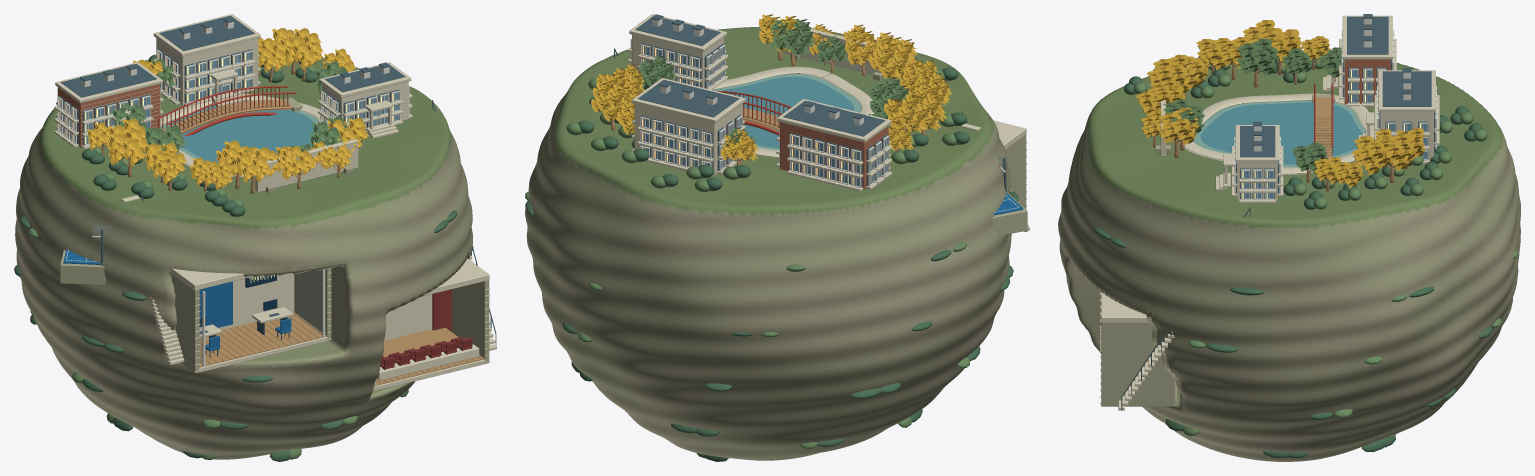
File: university-refined-v1.glb
The picture shows the model from 3 angles, left to right: view 1: azimuth 30°, elevation 25°; view 2: azimuth 150°, elevation 25°; view 3: azimuth 270°, elevation 25°; orthographic projection. The views are drawn at different scales.
Parts seen in each view (by area): view 1: campus_stratified_terrain, campus_pale_stone, campus_ginkgo_gold, campus_limestone, campus_wood, campus_metal, campus_window_frame, campus_groundcover, campus_lake, campus_foliage, campus_glass, campus_velvet (+5 smaller); view 2: campus_stratified_terrain, campus_pale_stone, campus_ginkgo_gold, campus_metal, campus_foliage, campus_window_frame, campus_groundcover, campus_lake, campus_glass, campus_limestone, campus_brick, campus_wood (+3 smaller); view 3: campus_stratified_terrain, campus_pale_stone, campus_ginkgo_gold, campus_foliage, campus_metal, campus_limestone, campus_lake, campus_groundcover, campus_window_frame, campus_wood, campus_glass, campus_shallow_water (+1 smaller).
Boxes of the visible parts, left/top/right/bottom form: campus_stratified_terrain: left=15, top=57, right=472, bottom=459; campus_pale_stone: left=54, top=14, right=496, bottom=390; campus_ginkgo_gold: left=87, top=28, right=369, bottom=189; campus_limestone: left=60, top=97, right=489, bottom=391; campus_wood: left=99, top=59, right=483, bottom=385; campus_metal: left=58, top=15, right=496, bottom=369; campus_window_frame: left=57, top=21, right=409, bottom=366; campus_groundcover: left=14, top=55, right=457, bottom=461; campus_lake: left=169, top=105, right=313, bottom=164; campus_foliage: left=28, top=59, right=473, bottom=459; campus_glass: left=59, top=52, right=398, bottom=144; campus_velvet: left=380, top=289, right=472, bottom=369; campus_stratified_terrain: left=525, top=27, right=1011, bottom=460; campus_pale_stone: left=627, top=14, right=1029, bottom=232; campus_ginkgo_gold: left=591, top=14, right=951, bottom=160; campus_metal: left=614, top=14, right=1006, bottom=192; campus_foliage: left=525, top=19, right=969, bottom=458; campus_window_frame: left=630, top=18, right=1018, bottom=212; campus_groundcover: left=525, top=67, right=1018, bottom=461; campus_lake: left=721, top=76, right=854, bottom=148; campus_glass: left=641, top=46, right=887, bottom=186; campus_limestone: left=790, top=53, right=1027, bottom=235; campus_brick: left=780, top=122, right=888, bottom=189; campus_wood: left=610, top=31, right=936, bottom=165; campus_stratified_terrain: left=1058, top=50, right=1520, bottom=461; campus_pale_stone: left=1100, top=15, right=1439, bottom=410; campus_ginkgo_gold: left=1136, top=20, right=1425, bottom=188; campus_foliage: left=1134, top=38, right=1518, bottom=436; campus_metal: left=1121, top=14, right=1435, bottom=409; campus_limestone: left=1101, top=94, right=1335, bottom=406; campus_lake: left=1200, top=102, right=1361, bottom=164; campus_groundcover: left=1093, top=59, right=1492, bottom=458; campus_window_frame: left=1234, top=18, right=1436, bottom=199; campus_wood: left=1152, top=58, right=1407, bottom=191; campus_glass: left=1236, top=70, right=1426, bottom=198; campus_shallow_water: left=1193, top=100, right=1366, bottom=167.
Bounding box in the file's own units: 19.43 × 16.66 × 18.9.
